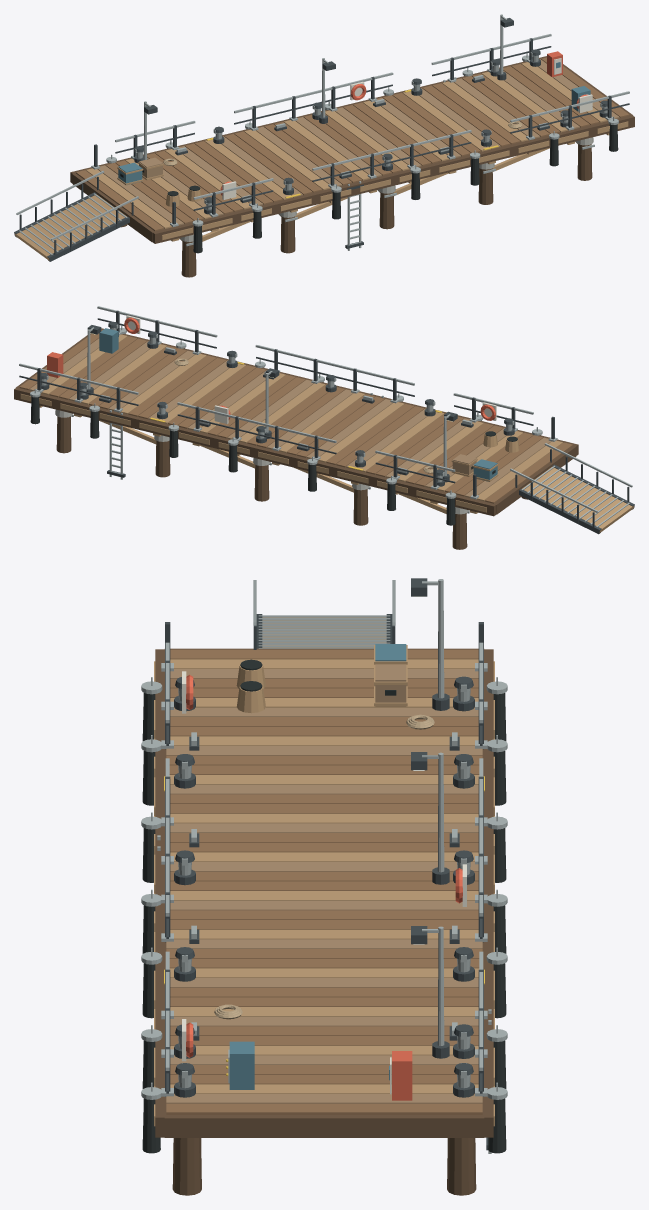
Rendered from HARBOUR_JETTY.fbx.
The picture shows the model from 3 angles, top to bottom: view 1: azimuth 30°, elevation 25°; view 2: azimuth 150°, elevation 25°; view 3: azimuth 270°, elevation 25°; orthographic projection. The views are drawn at different scales.
Parts seen in each view (by area): view 1: Outer edge timber beam, Timber access ramp deck, Individual hardwood deck plank.016, Individual hardwood deck plank.036, Individual hardwood deck plank, Individual hardwood deck plank.017, Individual hardwood deck plank.012, Individual hardwood deck plank.028, Individual hardwood deck plank.037, Individual hardwood deck plank.035, Individual hardwood deck plank.015, Individual hardwood deck plank.032 (+45 smaller); view 2: Outer edge timber beam.001, Timber access ramp deck, Individual hardwood deck plank.016, Individual hardwood deck plank.036, Individual hardwood deck plank, Individual hardwood deck plank.017, Individual hardwood deck plank.015, Individual hardwood deck plank.035, Jetty end timber beam, Individual hardwood deck plank.037, Individual hardwood deck plank.032, Individual hardwood deck plank.021 (+49 smaller); view 3: Jetty end timber beam.001, Outer edge timber beam.001, Outer edge timber beam, Individual hardwood deck plank.047, Individual hardwood deck plank.035, Individual hardwood deck plank.026, Individual hardwood deck plank.008, Individual hardwood deck plank.017, Individual hardwood deck plank.014, Individual hardwood deck plank.020, Individual hardwood deck plank.038, Individual hardwood deck plank.027 (+45 smaller).
Part boxes in pixels (x1,y1,x2,y2): Outer edge timber beam: [152, 115, 634, 243]; Timber access ramp deck: [14, 194, 126, 260]; Individual hardwood deck plank.016: [234, 131, 322, 192]; Individual hardwood deck plank.036: [432, 83, 520, 144]; Individual hardwood deck plank: [76, 170, 164, 231]; Individual hardwood deck plank.017: [244, 129, 330, 190]; Individual hardwood deck plank.012: [194, 141, 282, 202]; Individual hardwood deck plank.028: [353, 102, 441, 163]; Individual hardwood deck plank.037: [442, 81, 528, 141]; Individual hardwood deck plank.035: [422, 85, 510, 146]; Individual hardwood deck plank.015: [224, 134, 312, 194]; Individual hardwood deck plank.032: [392, 93, 480, 152]; Outer edge timber beam.001: [14, 387, 496, 516]; Timber access ramp deck: [522, 466, 633, 533]; Individual hardwood deck plank.016: [326, 404, 414, 464]; Individual hardwood deck plank.036: [128, 355, 216, 416]; Individual hardwood deck plank: [484, 442, 572, 503]; Individual hardwood deck plank.017: [318, 402, 404, 462]; Individual hardwood deck plank.015: [336, 406, 424, 467]; Individual hardwood deck plank.035: [138, 358, 226, 419]; Jetty end timber beam: [491, 445, 576, 514]; Individual hardwood deck plank.037: [120, 353, 206, 414]; Individual hardwood deck plank.032: [168, 365, 256, 425]; Individual hardwood deck plank.021: [278, 392, 364, 452]; Jetty end timber beam.001: [164, 1113, 484, 1137]; Outer edge timber beam.001: [480, 649, 493, 1137]; Outer edge timber beam: [155, 649, 166, 1137]; Individual hardwood deck plank.047: [166, 1103, 482, 1114]; Individual hardwood deck plank.035: [170, 987, 478, 997]; Individual hardwood deck plank.026: [170, 900, 478, 910]; Individual hardwood deck plank.008: [170, 726, 478, 736]; Individual hardwood deck plank.017: [170, 813, 478, 823]; Individual hardwood deck plank.014: [170, 784, 478, 794]; Individual hardwood deck plank.020: [170, 842, 478, 852]; Individual hardwood deck plank.038: [170, 1016, 478, 1026]; Individual hardwood deck plank.027: [170, 910, 478, 919].
Size of the model in its own units: 2838 by 625 by 802.
